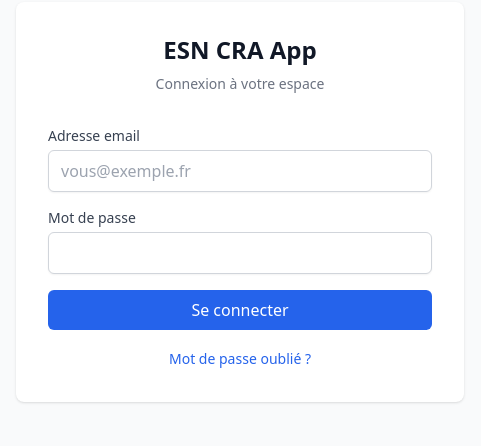
Scenario: LoginPage › shows error when signIn returns null
The width and height of the screenshot is (481, 446).
Step 1. Type "a@b.com" into the field labelled "Adresse email" → x=240, y=171, box left=48, top=150, right=432, bottom=192
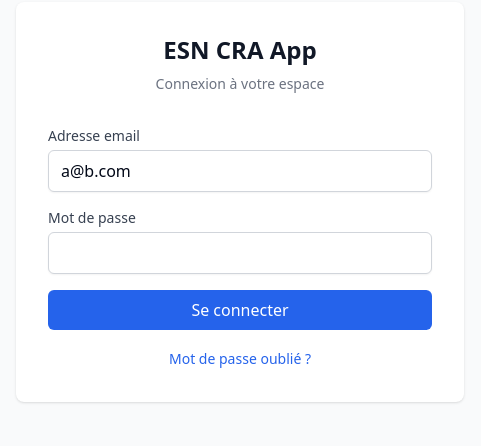
Step 2. Type "pw" into the password field labelled "Mot de passe" → x=240, y=253, box left=48, top=232, right=432, bottom=274
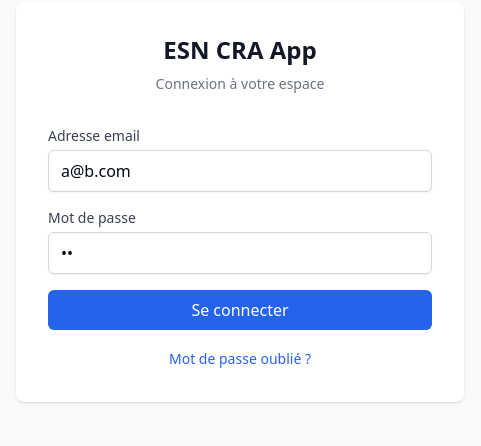
Step 3. Submit the form "Adresse email Mot de passe Se connecter", box left=48, top=126, right=432, bottom=330
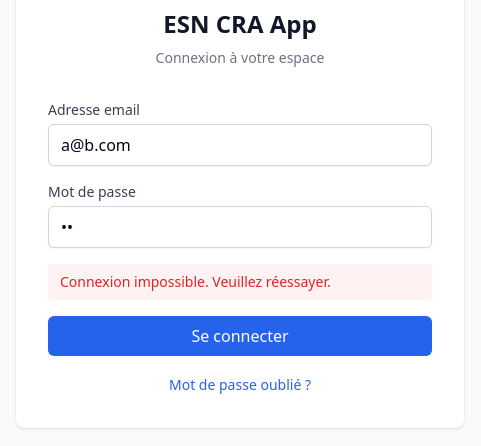
Expected: the message "Connexion impossible. Veuillez réessayer." is shown, left=48, top=264, right=432, bottom=300
